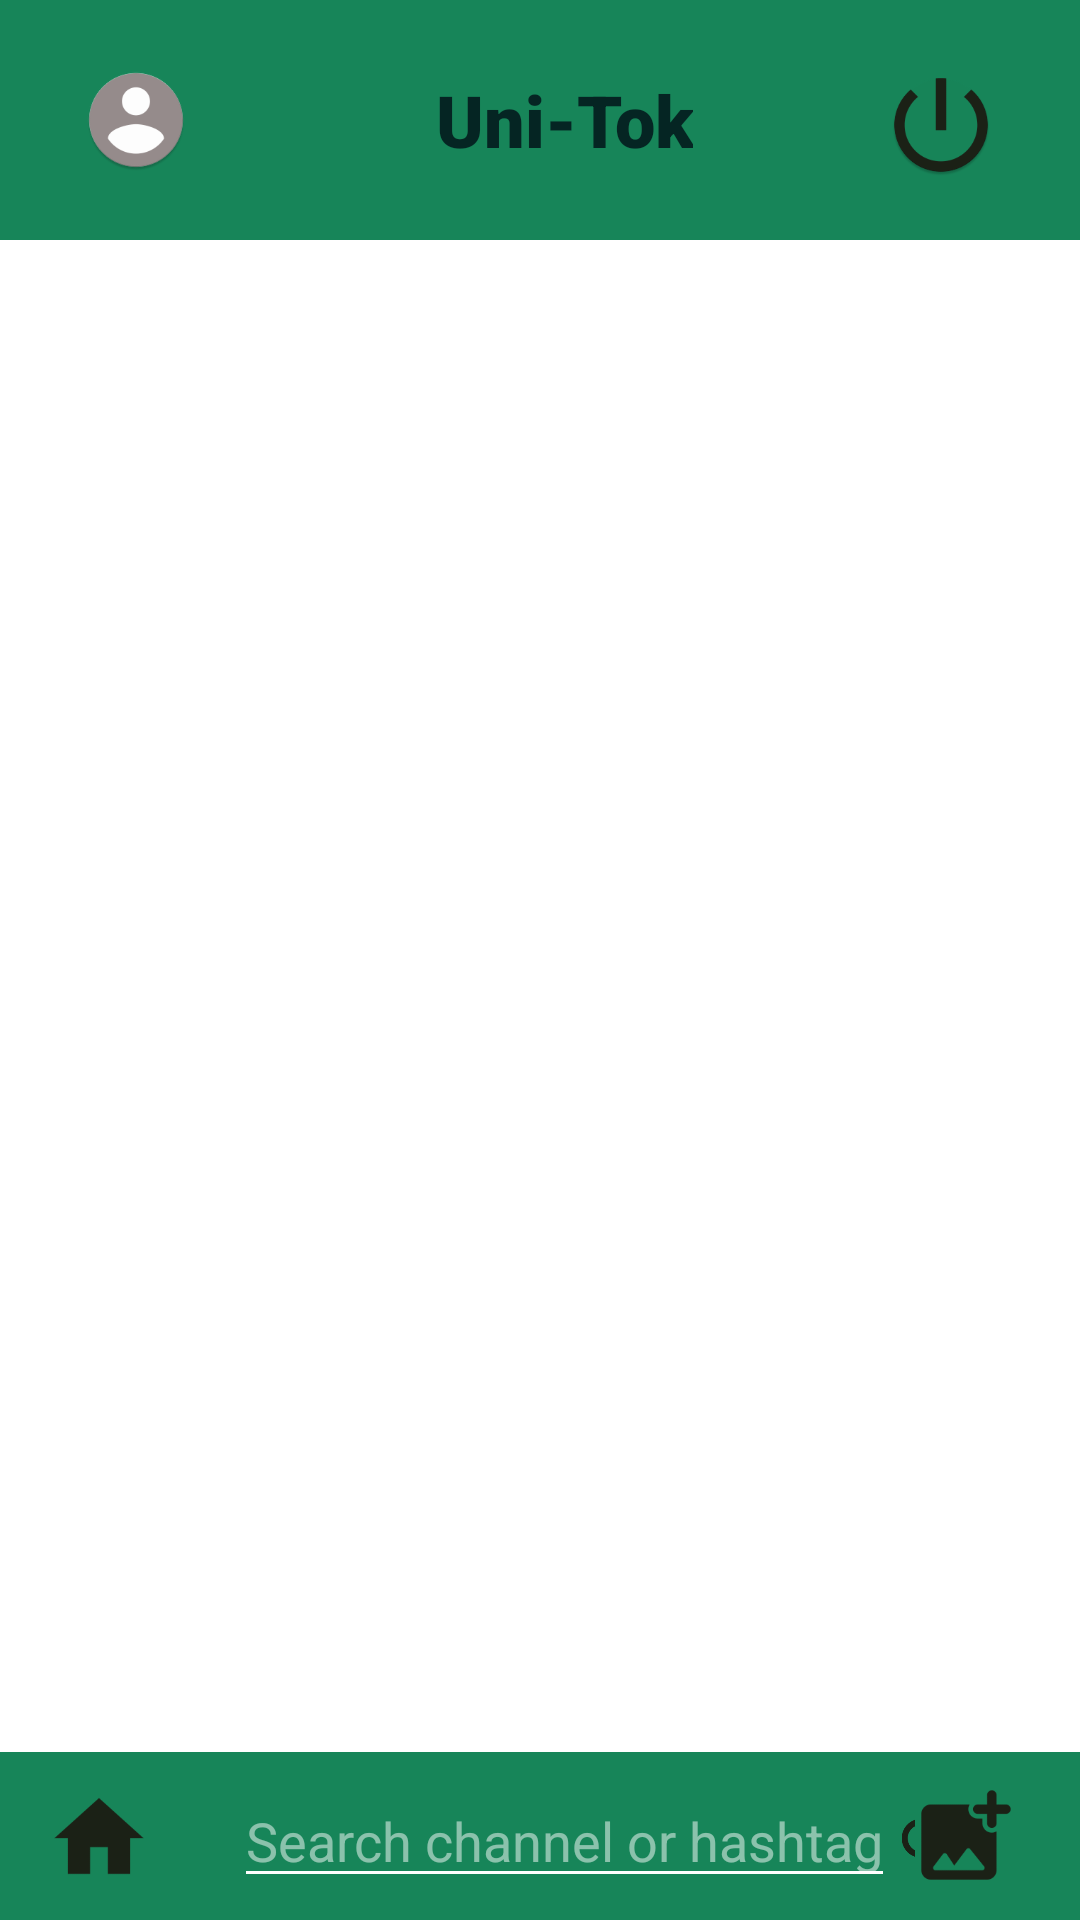

Named icons in this screenshot (1080 × 1920) and their centers, (x,y):
exit: (941,125)
home page: (99,1836)
profile: (136,120)
